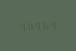four: (18, 21, 25, 31), (50, 19, 57, 29)
nine: (34, 20, 41, 30)
six: (42, 19, 49, 30)
zero: (26, 20, 33, 31)
